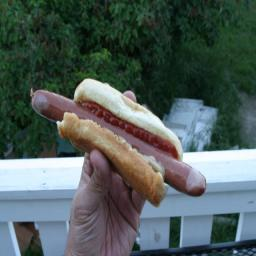hotdog: (30, 78, 207, 207)
